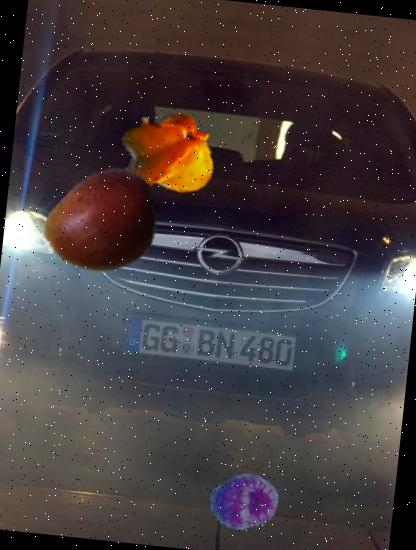Carambula: (112, 102, 218, 209)
Mango: (38, 160, 164, 286)
Raspberry: (208, 466, 282, 540)
